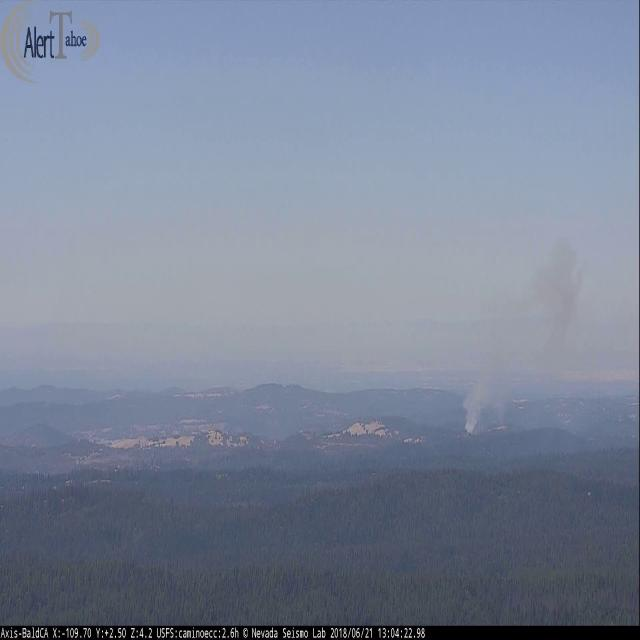smoke: (461, 230, 590, 441)
